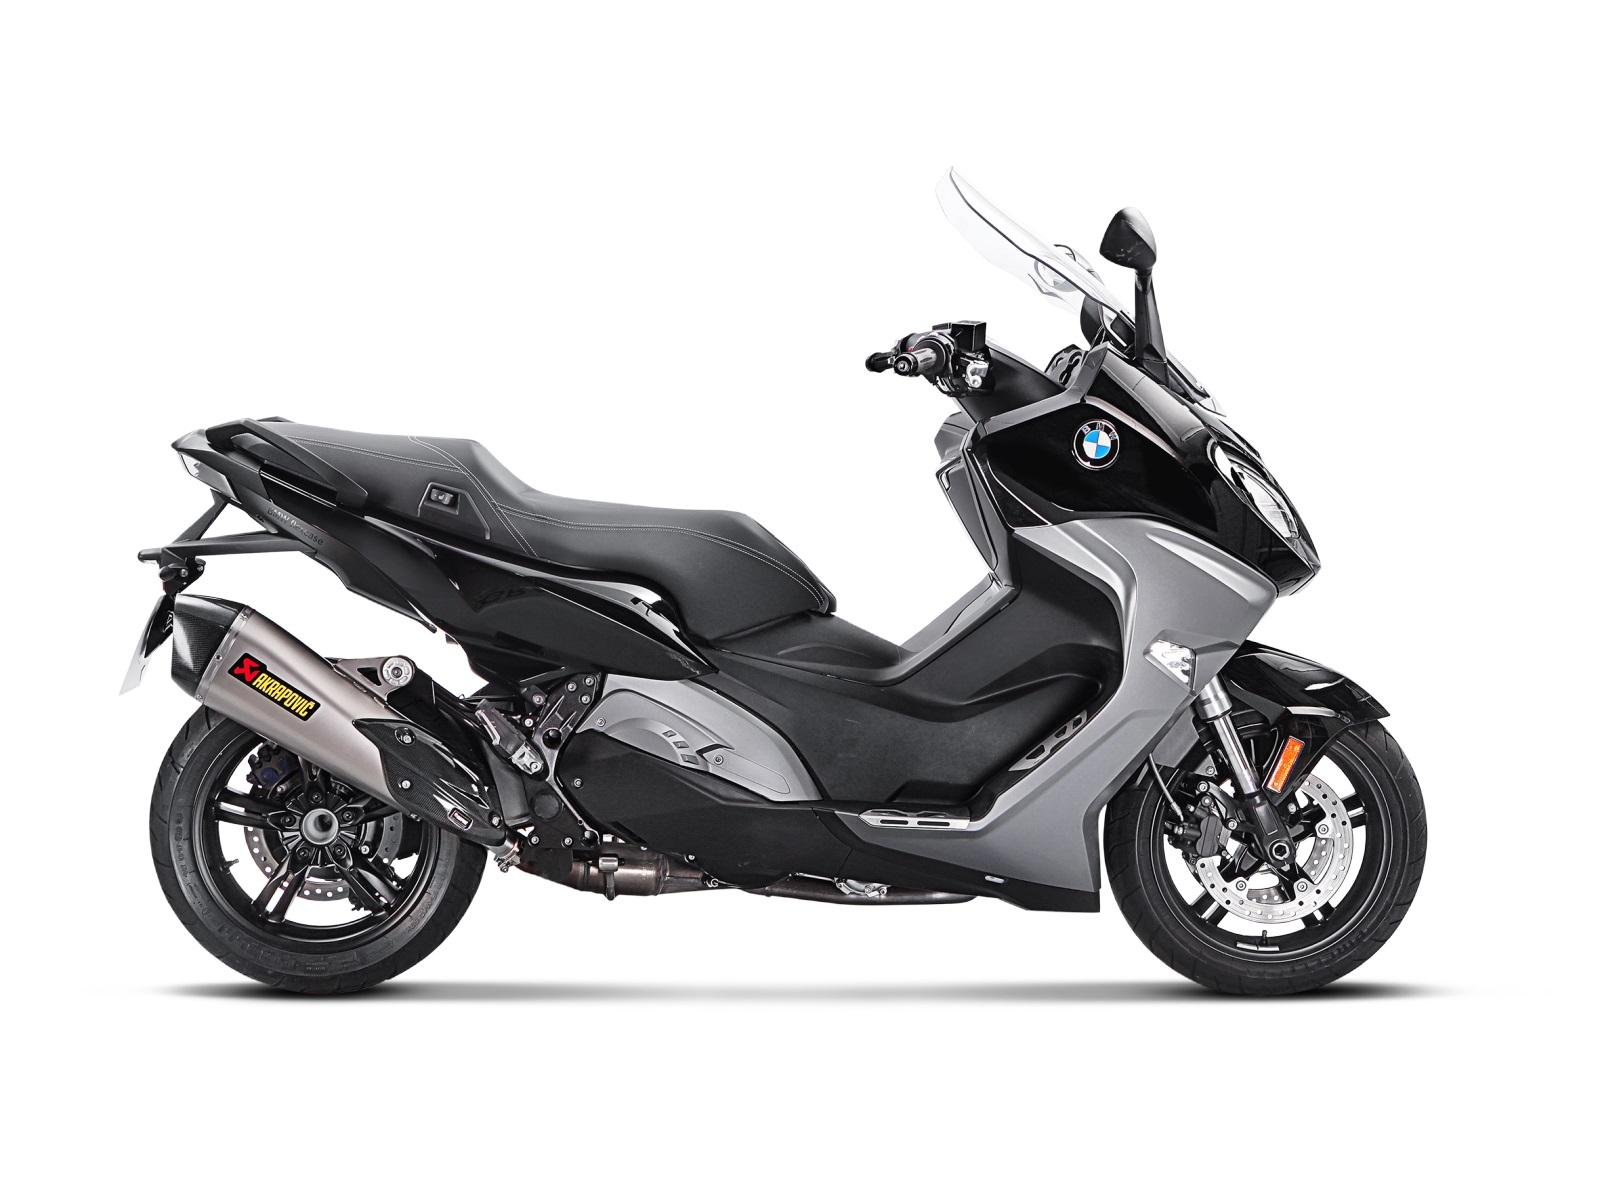engine-chasis: (530, 533, 1124, 914)
exhaust: (170, 592, 978, 905)
frontside: (835, 165, 1392, 892)
handlebar: (864, 295, 1135, 426), (1099, 205, 1172, 389), (1053, 243, 1105, 286)
motorbike: (125, 168, 1429, 996)
rearside: (118, 416, 719, 851)
seat: (258, 421, 838, 643)
tank: (709, 424, 1022, 687)
wheel: (149, 703, 489, 996), (1102, 720, 1429, 997), (1148, 753, 1184, 822)
